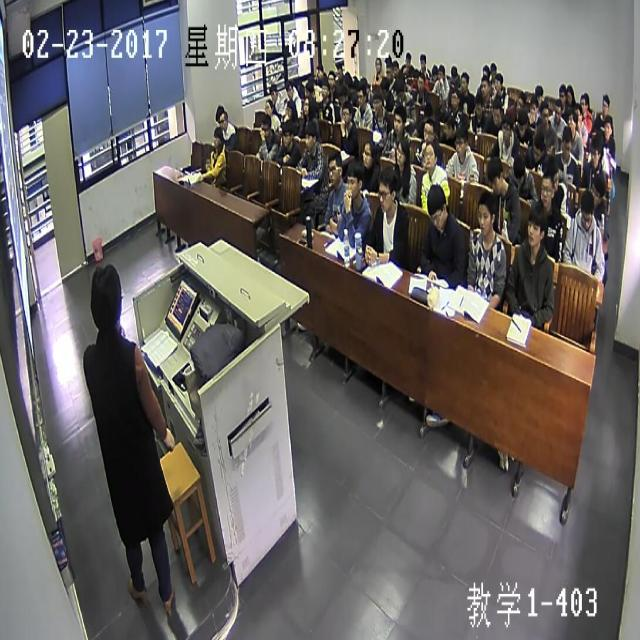person: (87, 260, 125, 334), (423, 179, 449, 233), (475, 187, 499, 238), (376, 165, 399, 215), (524, 198, 546, 248), (345, 158, 364, 202), (324, 150, 345, 188), (486, 154, 504, 197), (578, 188, 594, 235), (510, 150, 527, 187), (394, 135, 410, 169), (452, 126, 469, 158), (587, 174, 603, 208), (540, 168, 554, 206), (530, 130, 546, 163), (421, 140, 438, 170), (391, 104, 405, 136), (362, 137, 376, 169), (589, 137, 601, 170), (258, 111, 272, 139), (279, 120, 293, 148), (441, 110, 455, 138), (498, 114, 512, 142), (560, 123, 571, 158), (211, 122, 224, 151), (303, 121, 316, 150), (547, 158, 558, 192), (300, 92, 314, 118), (422, 116, 434, 144), (516, 108, 527, 136), (565, 107, 576, 135), (264, 96, 276, 121), (598, 90, 610, 115), (528, 91, 538, 120), (340, 102, 352, 126), (354, 82, 366, 106), (422, 98, 433, 124), (491, 98, 502, 124), (540, 98, 550, 126), (370, 89, 382, 112), (478, 74, 490, 97), (336, 84, 347, 108), (393, 77, 404, 101), (283, 97, 294, 120), (458, 67, 469, 90), (448, 87, 460, 108), (472, 91, 482, 116), (284, 77, 294, 101), (602, 116, 612, 140), (417, 49, 427, 72), (436, 60, 446, 83), (578, 91, 587, 116), (214, 102, 224, 124), (414, 70, 424, 92), (533, 81, 543, 103), (552, 96, 561, 120), (218, 110, 228, 131), (493, 71, 503, 92), (556, 80, 565, 103), (573, 101, 582, 124), (268, 80, 278, 100), (319, 78, 329, 98), (515, 90, 525, 110), (380, 75, 389, 97), (402, 47, 412, 66), (334, 60, 343, 81), (565, 81, 573, 104), (479, 60, 489, 78), (302, 78, 312, 95), (390, 57, 399, 75), (449, 63, 457, 83), (326, 70, 335, 86), (384, 59, 392, 77), (314, 63, 324, 77), (489, 59, 496, 79), (344, 68, 352, 84), (383, 49, 391, 64), (374, 56, 381, 72), (431, 64, 437, 79)
